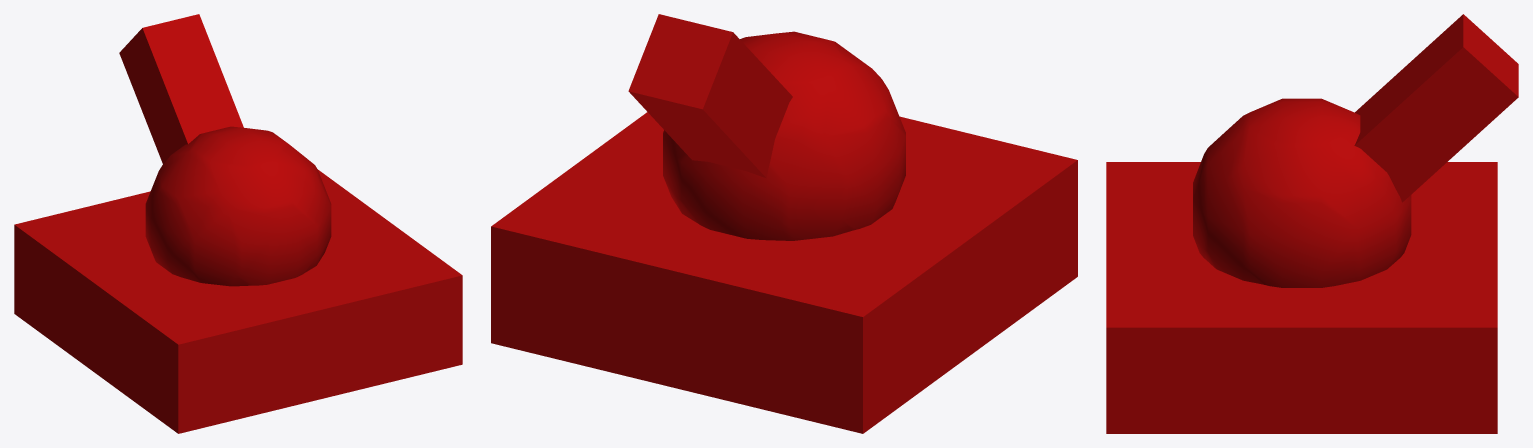
Rendered from enemytypeBbehit.obj.
3 renders of one model, left to right at view 1: azimuth 30°, elevation 25°; view 2: azimuth 150°, elevation 25°; view 3: azimuth 270°, elevation 25°, orthographic. The views are drawn at different scales.
Visible parts, largest first — view 1: 立方體_立方體.002, Mball, 立方體.002; view 2: 立方體_立方體.002, Mball, 立方體.002; view 3: 立方體_立方體.002, Mball, 立方體.002.
Part boxes in pixels (bbox=[...]): 立方體_立方體.002: bbox=[14, 170, 462, 433]; Mball: bbox=[145, 126, 331, 286]; 立方體.002: bbox=[119, 14, 243, 163]; 立方體_立方體.002: bbox=[491, 112, 1077, 433]; Mball: bbox=[663, 31, 905, 240]; 立方體.002: bbox=[628, 14, 792, 178]; 立方體_立方體.002: bbox=[1106, 162, 1497, 433]; Mball: bbox=[1193, 98, 1411, 287]; 立方體.002: bbox=[1354, 14, 1518, 202].
Size of the model in its own units: 10 by 9.04 by 10.54.
Materials: 3 (3 with a texture image).
